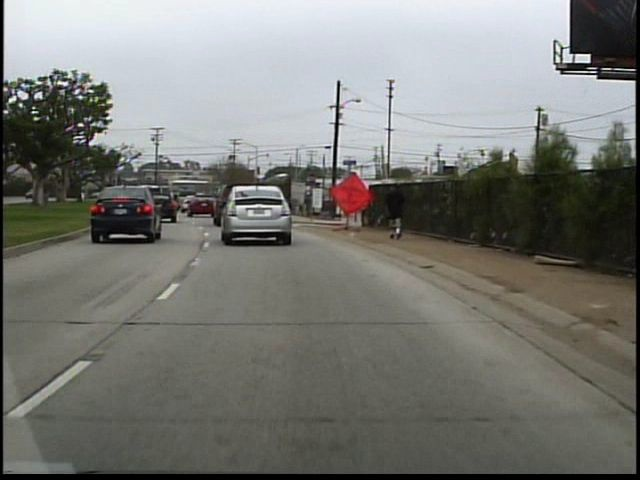person: (382, 177, 414, 243)
